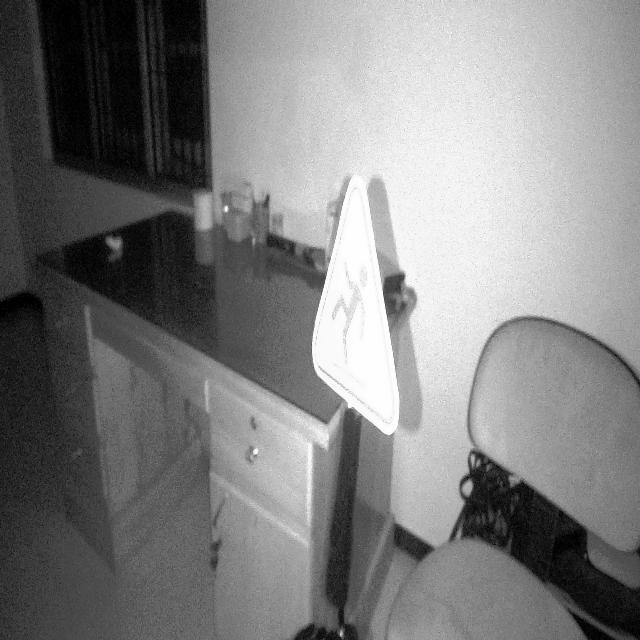Sign: (311, 174, 401, 438)
